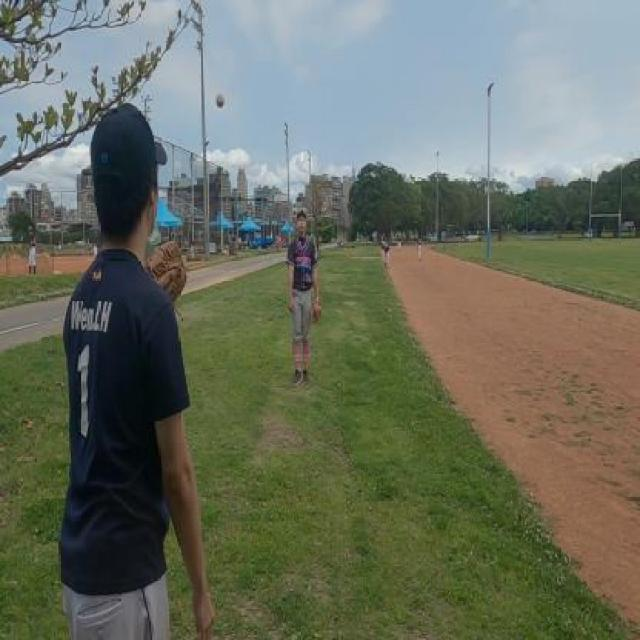baseball: (217, 92, 226, 108)
